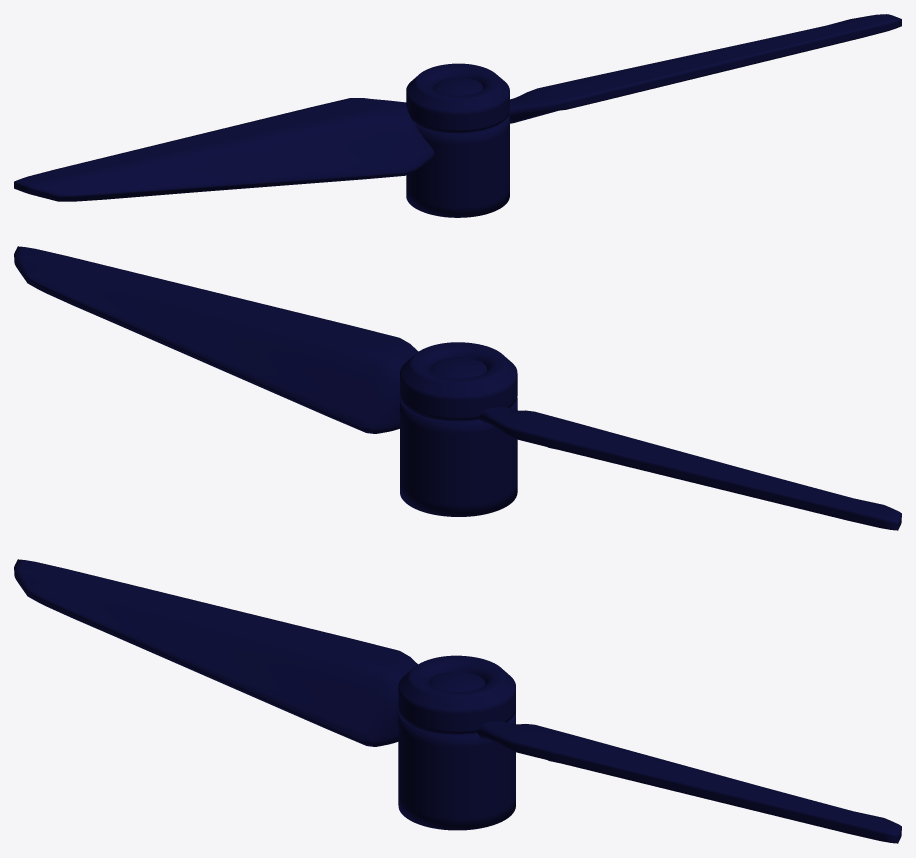
Rendered from propellor_03_blue.89b4f7b0.glb.
The picture shows the model from 3 angles, top to bottom: view 1: azimuth 30°, elevation 25°; view 2: azimuth 150°, elevation 25°; view 3: azimuth 330°, elevation 25°; orthographic projection. The views are drawn at different scales.
Parts seen in each view (by area): view 1: GEO_Propeller_03; view 2: GEO_Propeller_03; view 3: GEO_Propeller_03.
Part boxes in pixels (box(x1,y1,x2,y2)): GEO_Propeller_03: box(14, 14, 901, 217); GEO_Propeller_03: box(14, 246, 901, 530); GEO_Propeller_03: box(14, 559, 901, 843).
Size of the model in its own units: 4.61 by 0.6106 by 0.5583.
